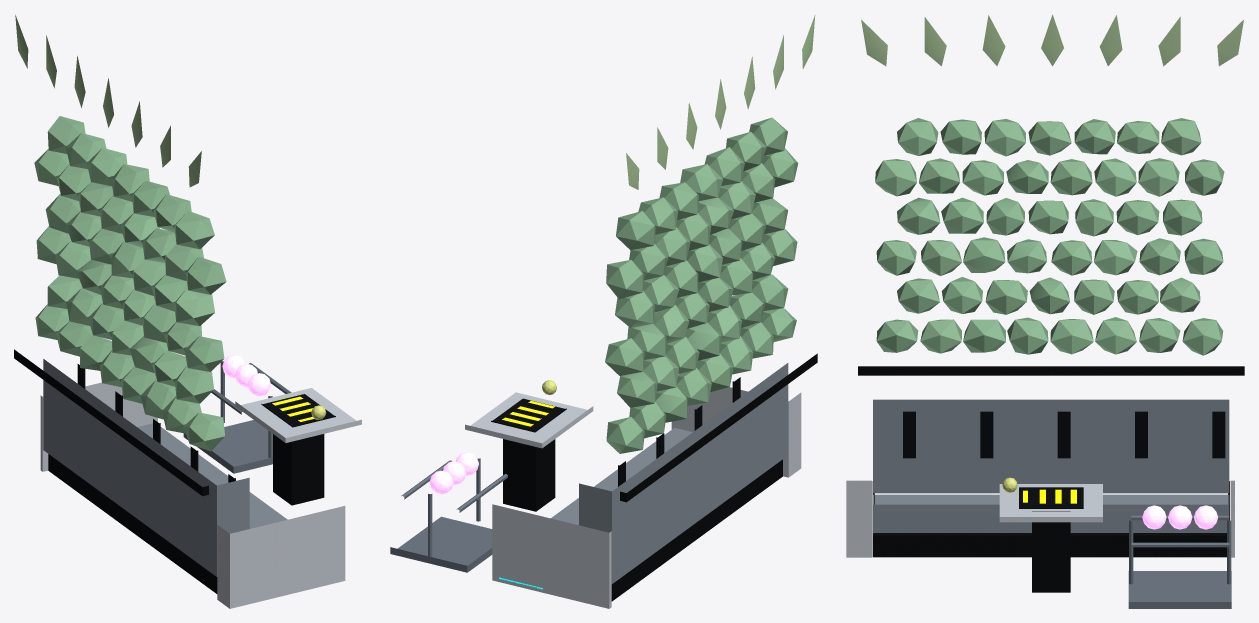
File: tt_bowl_settee.glb
3 renders of one model, left to right at view 1: azimuth 30°, elevation 25°; view 2: azimuth 150°, elevation 25°; view 3: azimuth 270°, elevation 25°, orthographic. The views are drawn at different scales.
Visible parts, largest first — view 1: Moss_Wall, Settee_Back, Settee_Arms, Console_Pedestal, Settee_Plinth, Console_Top, Rack_Frame, Leaf_Crests, Settee_Seat, Moss_Wall_Frame, Rack_Balls, Console_Plate (+1 smaller); view 2: Moss_Wall, Settee_Back, Settee_Arms, Rack_Frame, Console_Pedestal, Settee_Plinth, Console_Top, Leaf_Crests, Moss_Wall_Frame, Settee_Seat, Console_Plate, Rack_Balls (+3 smaller); view 3: Moss_Wall, Settee_Back, Settee_Seat, Settee_Plinth, Leaf_Crests, Moss_Wall_Frame, Rack_Frame, Settee_Tufts, Console_Pedestal, Console_Top, Settee_Arms, Rack_Balls (+3 smaller).
Part boxes in pixels (bbox=[...]): Moss_Wall: bbox=[34, 116, 226, 451]; Settee_Back: bbox=[43, 359, 249, 576]; Settee_Arms: bbox=[40, 382, 345, 608]; Console_Pedestal: bbox=[273, 434, 324, 505]; Settee_Plinth: bbox=[48, 454, 217, 593]; Console_Top: bbox=[235, 388, 361, 442]; Rack_Frame: bbox=[183, 420, 272, 473]; Leaf_Crests: bbox=[15, 15, 201, 187]; Settee_Seat: bbox=[137, 423, 287, 528]; Moss_Wall_Frame: bbox=[14, 349, 208, 496]; Rack_Balls: bbox=[222, 354, 270, 396]; Console_Plate: bbox=[261, 394, 335, 427]; Moss_Wall: bbox=[605, 117, 798, 453]; Settee_Back: bbox=[579, 363, 788, 583]; Settee_Arms: bbox=[492, 387, 801, 608]; Rack_Frame: bbox=[390, 516, 492, 572]; Console_Pedestal: bbox=[503, 439, 555, 511]; Settee_Plinth: bbox=[611, 459, 782, 601]; Console_Top: bbox=[465, 392, 593, 448]; Leaf_Crests: bbox=[626, 15, 815, 189]; Moss_Wall_Frame: bbox=[620, 353, 817, 502]; Settee_Seat: bbox=[551, 427, 692, 525]; Console_Plate: bbox=[491, 398, 566, 432]; Rack_Balls: bbox=[429, 452, 478, 494]; Moss_Wall: bbox=[875, 118, 1224, 355]; Settee_Back: bbox=[873, 399, 1229, 493]; Settee_Seat: bbox=[873, 494, 1229, 533]; Settee_Plinth: bbox=[872, 481, 1229, 557]; Leaf_Crests: bbox=[861, 14, 1243, 66]; Moss_Wall_Frame: bbox=[858, 366, 1244, 375]; Rack_Frame: bbox=[1128, 571, 1231, 608]; Settee_Tufts: bbox=[903, 411, 1225, 458]; Console_Pedestal: bbox=[1032, 511, 1070, 592]; Console_Top: bbox=[999, 484, 1102, 522]; Settee_Arms: bbox=[846, 480, 1234, 557]; Rack_Balls: bbox=[1142, 505, 1217, 529].
Size of what is drawn, in the model's own units: 2.2 by 4.07 by 3.09.
Materials: 11 (4 with a texture image).
